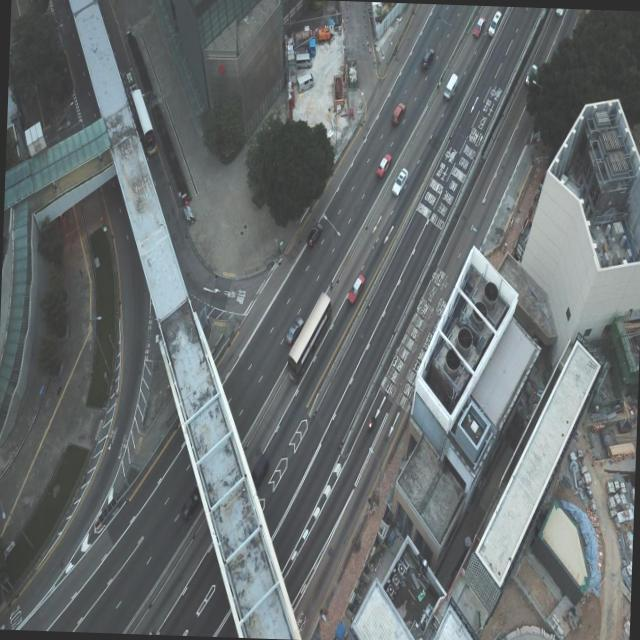bus: (286, 290, 332, 384), (129, 88, 159, 158)
car: (178, 483, 202, 522), (346, 272, 366, 304), (284, 316, 304, 346), (390, 167, 408, 196), (294, 69, 315, 93), (444, 72, 459, 101), (376, 152, 392, 178), (489, 11, 504, 38), (391, 101, 406, 126), (308, 225, 324, 248), (471, 16, 486, 40), (294, 51, 312, 70), (421, 46, 435, 68), (555, 8, 570, 17)
